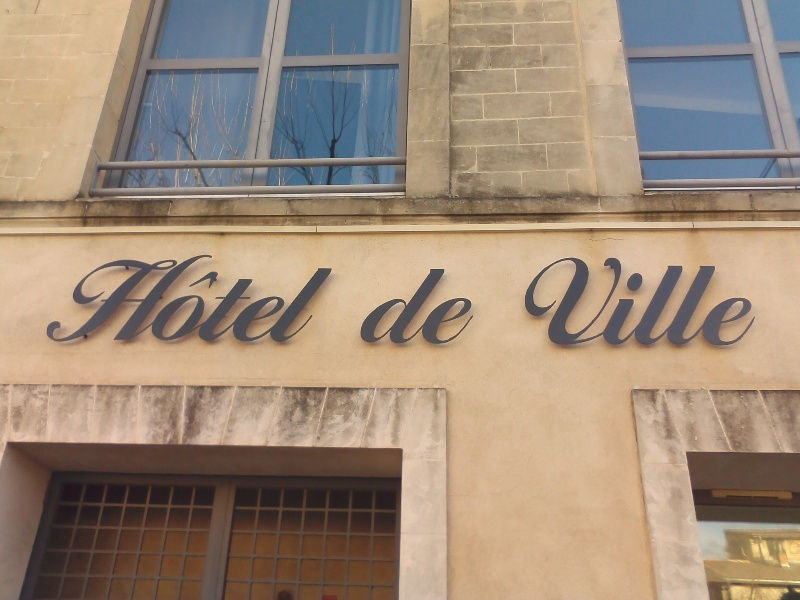text: (81, 253, 96, 346), (97, 253, 112, 346), (113, 253, 128, 346), (129, 253, 144, 346), (145, 253, 160, 346), (161, 253, 176, 346), (177, 253, 192, 346), (193, 253, 208, 346), (209, 253, 224, 346), (225, 253, 240, 346), (241, 253, 256, 346), (257, 253, 272, 346), (273, 253, 288, 346), (289, 253, 304, 346), (305, 253, 320, 346), (321, 253, 336, 346), (529, 257, 544, 348), (545, 257, 560, 348), (561, 257, 576, 348), (577, 257, 592, 348), (593, 257, 608, 348), (609, 257, 624, 348), (625, 257, 640, 348), (641, 257, 656, 348), (657, 257, 672, 348), (673, 257, 688, 348), (689, 257, 704, 348), (705, 257, 720, 348), (721, 257, 736, 348), (737, 257, 752, 348), (385, 268, 400, 346), (401, 268, 416, 346), (417, 268, 432, 346), (433, 268, 448, 346), (449, 268, 464, 346), (372, 268, 384, 346), (70, 253, 80, 346), (465, 268, 476, 346), (522, 257, 528, 348), (753, 257, 759, 348), (337, 253, 338, 346)
